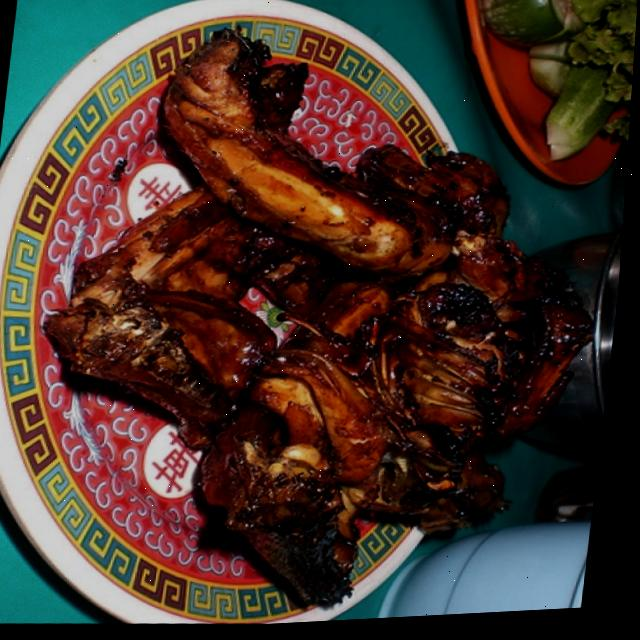鸡肉料理 含炸鸡: (4, 16, 615, 629)
